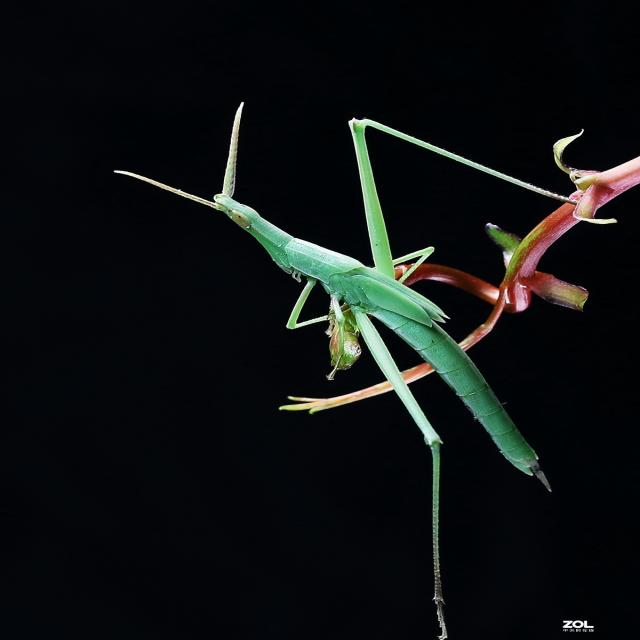ZhaMeng: (80, 96, 586, 493)
